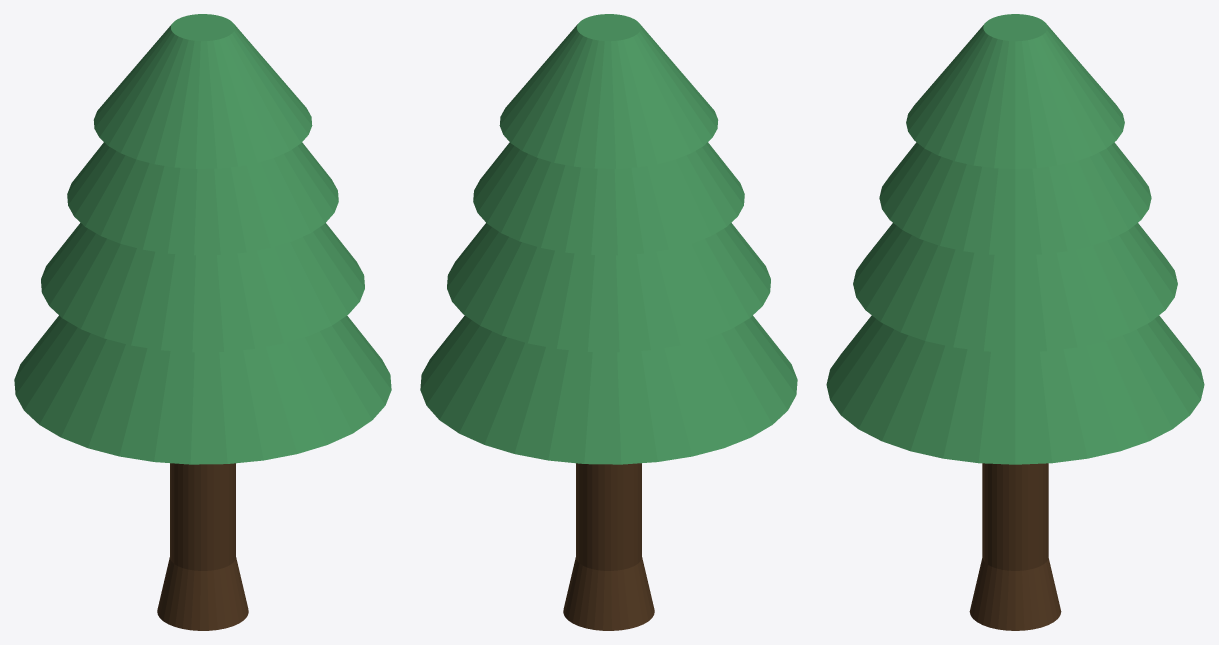
File: tree.fbx
3 renders of one model, left to right at view 1: azimuth 30°, elevation 25°; view 2: azimuth 150°, elevation 25°; view 3: azimuth 270°, elevation 25°, orthographic.
Parts seen in each view (by area): view 1: Cylinder.001, Cylinder.002, Cylinder.004, Cylinder.003, Cylinder; view 2: Cylinder.001, Cylinder.002, Cylinder.004, Cylinder.003, Cylinder; view 3: Cylinder.001, Cylinder.002, Cylinder.004, Cylinder.003, Cylinder.
Boxes of the visible parts, box(x1,y1,x2,y2) form: Cylinder.001: box(14, 315, 391, 464); Cylinder.002: box(41, 223, 364, 352); Cylinder.004: box(93, 14, 312, 168); Cylinder.003: box(67, 142, 338, 255); Cylinder: box(157, 463, 248, 630); Cylinder.001: box(420, 315, 797, 464); Cylinder.002: box(447, 223, 770, 352); Cylinder.004: box(499, 14, 718, 168); Cylinder.003: box(473, 142, 744, 255); Cylinder: box(563, 463, 654, 630); Cylinder.001: box(826, 315, 1204, 464); Cylinder.002: box(853, 223, 1177, 352); Cylinder.004: box(906, 14, 1124, 168); Cylinder.003: box(879, 142, 1151, 255); Cylinder: box(969, 463, 1061, 630).
Bounding box in the file's own units: 395 × 672 × 395.
